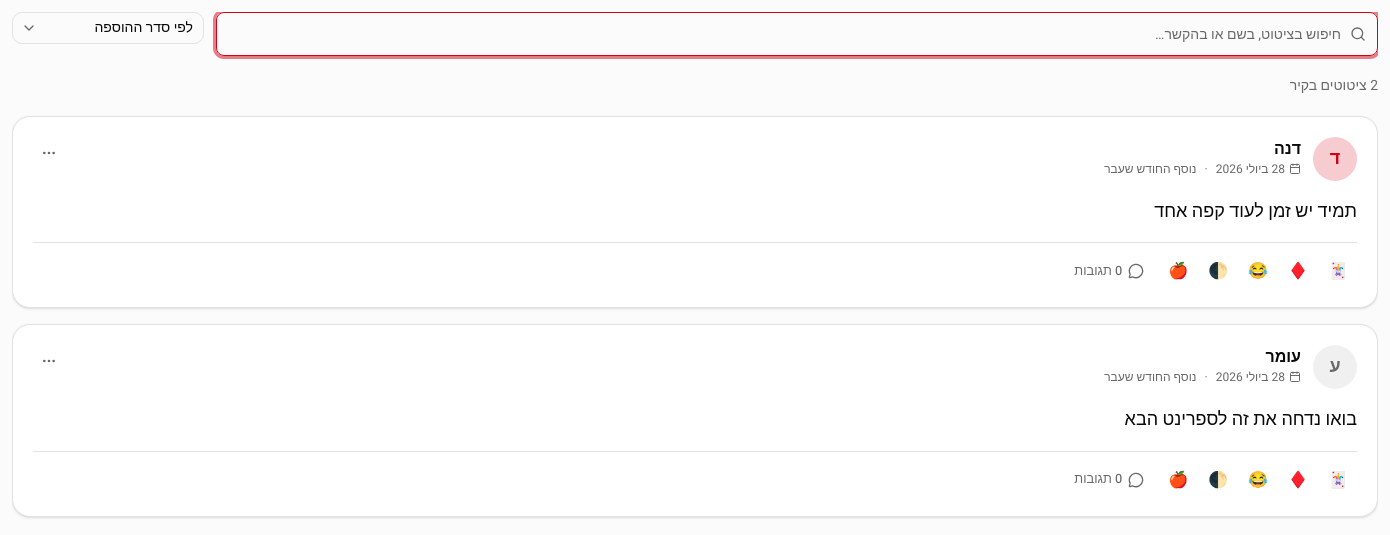
Test: QuoteSearch › shows an empty state naming the term
Check: the text "בואו נדחה את זה לספרינט הבא" is shown, box [1125,406,1357,433]
Type "בלתי אפשרי" into the field named "חיפוש ציטוטים" at (797, 34), box [216,12,1378,56]
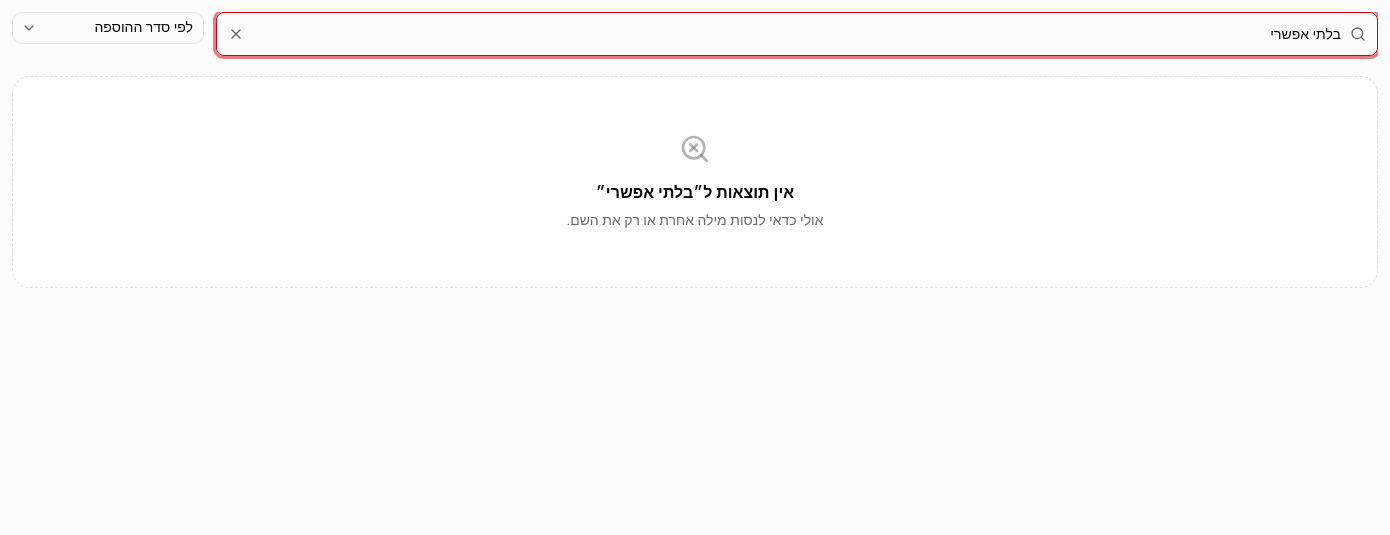
Check: the heading "אין תוצאות ל״בלתי אפשרי״" is shown, box [596,181,794,205]
